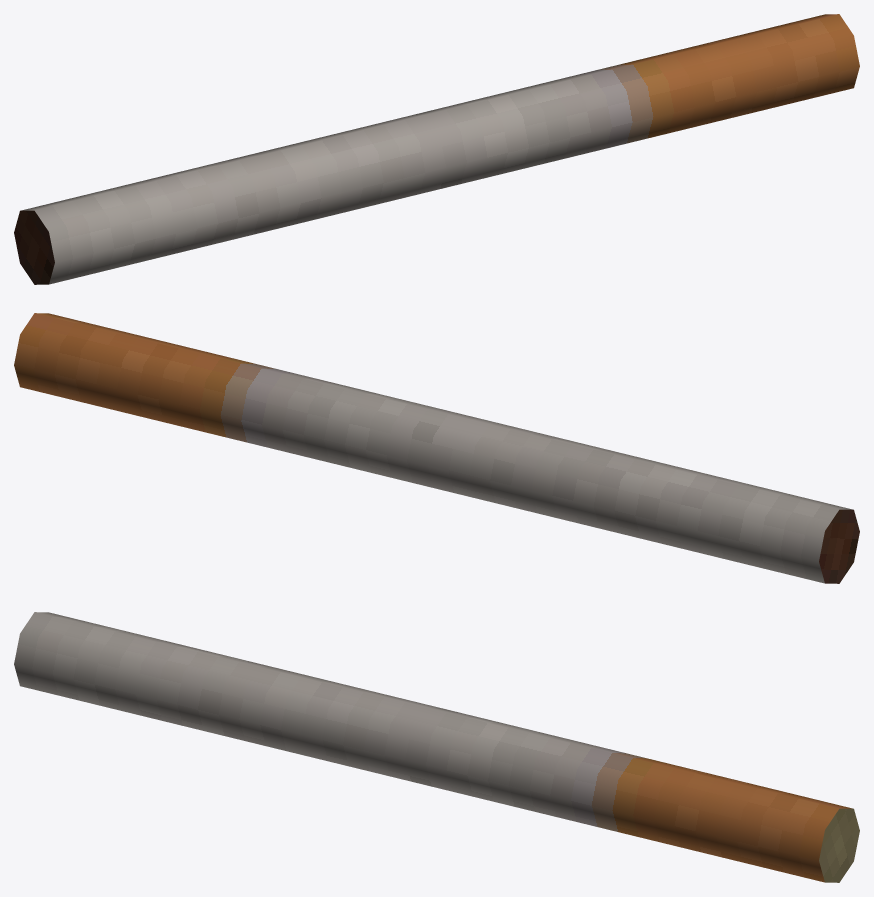
Rendered from cig_1.obj.
3 renders of one model, top to bottom at view 1: azimuth 30°, elevation 25°; view 2: azimuth 150°, elevation 25°; view 3: azimuth 330°, elevation 25°, orthographic.
Parts seen in each view (by area): view 1: cig_1; view 2: cig_1; view 3: cig_1.
Boxes of the visible parts, box(x1,y1,x2,y2) form: cig_1: box(14, 14, 859, 284); cig_1: box(14, 313, 859, 583); cig_1: box(14, 612, 859, 882).
Bounding box in the file's own units: 0.17 × 0.015 × 0.015.
